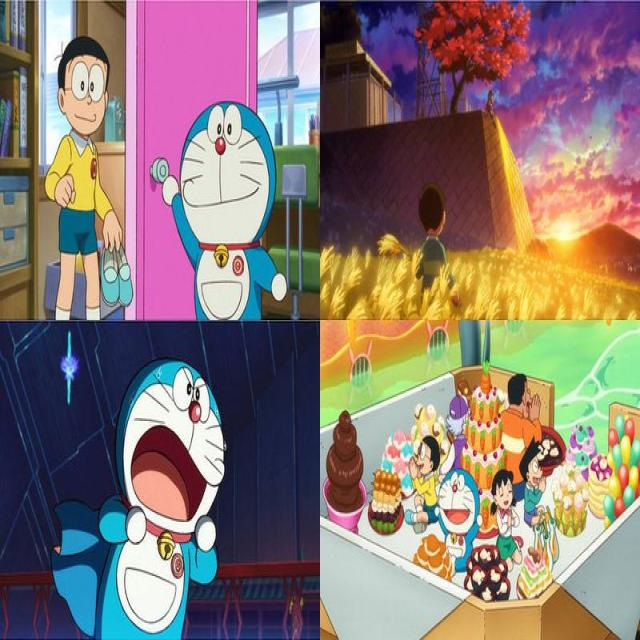doraemon: (113, 350, 230, 556), (173, 94, 278, 260), (434, 469, 484, 544)
nobita: (54, 28, 114, 151)
shizuka: (488, 468, 517, 518)
